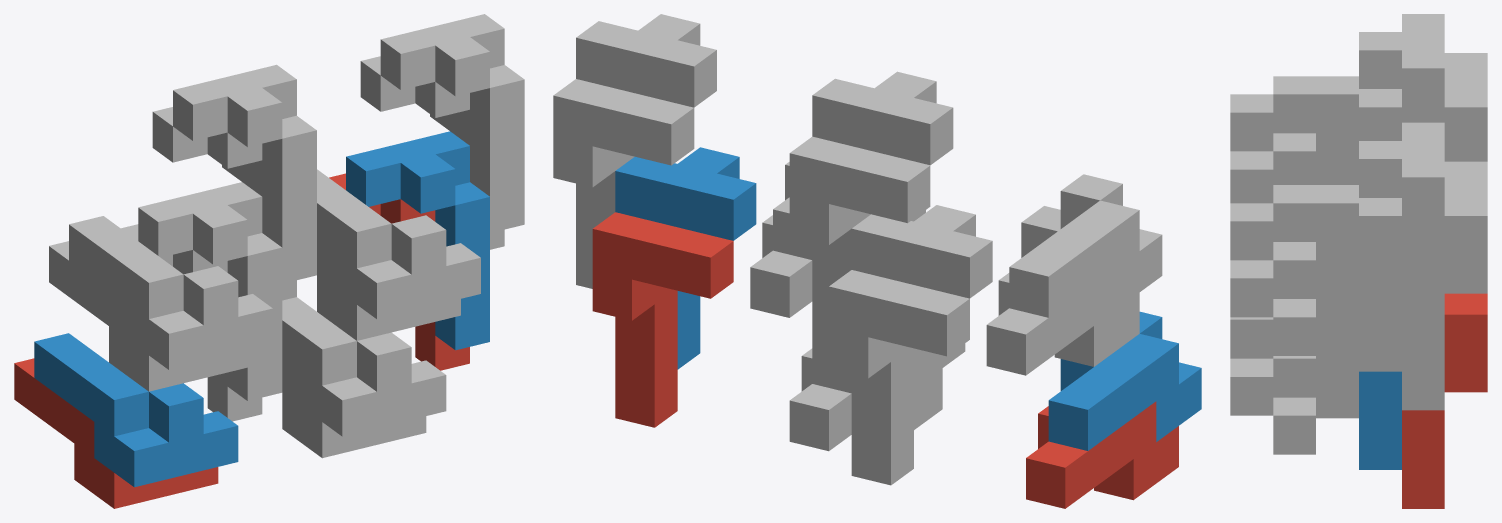
Rendered from tiling.obj.
The picture shows the model from 3 angles, left to right: view 1: azimuth 30°, elevation 25°; view 2: azimuth 150°, elevation 25°; view 3: azimuth 270°, elevation 25°; orthographic projection. The views are drawn at different scales.
Visible parts, largest first — view 1: copy_1_domain_2, copy_1_domain_4, copy_2_domain_8, copy_2_domain_4, copy_1_domain_8, copy_1_domain_6, copy_2_domain_2, copy_2_domain_6, copy_1_domain_1, copy_1_domain_3, copy_1_domain_5, copy_1_domain_7 (+4 smaller); view 2: copy_2_domain_5, copy_2_domain_1, copy_1_domain_4, copy_2_domain_3, copy_2_domain_7, copy_1_domain_2, copy_2_domain_6, copy_2_domain_2, copy_2_domain_4, copy_2_domain_8, copy_1_domain_3, copy_1_domain_1 (+4 smaller); view 3: copy_2_domain_8, copy_2_domain_7, copy_1_domain_8, copy_1_domain_4, copy_2_domain_4, copy_2_domain_5, copy_1_domain_7, copy_1_domain_5, copy_1_domain_6, copy_2_domain_3, copy_1_domain_3, copy_2_domain_6.
Boxes of the visible parts, bbox=[...] form: copy_1_domain_2: bbox=[34, 333, 238, 487]; copy_1_domain_4: bbox=[69, 216, 272, 369]; copy_2_domain_8: bbox=[380, 14, 524, 232]; copy_2_domain_4: bbox=[173, 64, 316, 283]; copy_1_domain_8: bbox=[317, 169, 480, 319]; copy_1_domain_6: bbox=[282, 297, 446, 436]; copy_2_domain_2: bbox=[138, 182, 282, 400]; copy_2_domain_6: bbox=[346, 131, 489, 350]; copy_1_domain_1: bbox=[14, 358, 218, 508]; copy_1_domain_3: bbox=[49, 241, 252, 391]; copy_1_domain_5: bbox=[282, 357, 426, 458]; copy_1_domain_7: bbox=[317, 239, 460, 340]; copy_2_domain_5: bbox=[592, 212, 733, 427]; copy_2_domain_1: bbox=[829, 270, 969, 485]; copy_1_domain_4: bbox=[1009, 174, 1162, 317]; copy_2_domain_3: bbox=[789, 136, 930, 346]; copy_2_domain_7: bbox=[553, 79, 694, 288]; copy_1_domain_2: bbox=[1048, 311, 1201, 450]; copy_2_domain_6: bbox=[615, 147, 756, 369]; copy_2_domain_2: bbox=[851, 205, 992, 427]; copy_2_domain_4: bbox=[812, 71, 953, 165]; copy_2_domain_8: bbox=[576, 14, 716, 107]; copy_1_domain_3: bbox=[986, 268, 1139, 375]; copy_1_domain_1: bbox=[1026, 401, 1178, 508]; copy_2_domain_8: bbox=[1359, 122, 1444, 371]; copy_2_domain_7: bbox=[1402, 161, 1487, 410]; copy_1_domain_8: bbox=[1230, 185, 1358, 317]; copy_1_domain_4: bbox=[1230, 76, 1358, 203]; copy_2_domain_4: bbox=[1359, 14, 1444, 140]; copy_2_domain_5: bbox=[1402, 293, 1487, 508]; copy_1_domain_7: bbox=[1273, 242, 1358, 355]; copy_1_domain_5: bbox=[1273, 340, 1358, 454]; copy_1_domain_6: bbox=[1230, 317, 1358, 415]; copy_2_domain_3: bbox=[1444, 53, 1487, 161]; copy_1_domain_3: bbox=[1273, 133, 1358, 184]; copy_2_domain_6: bbox=[1359, 371, 1401, 469].
Size of the model in its own units: 13 by 9 by 6.
